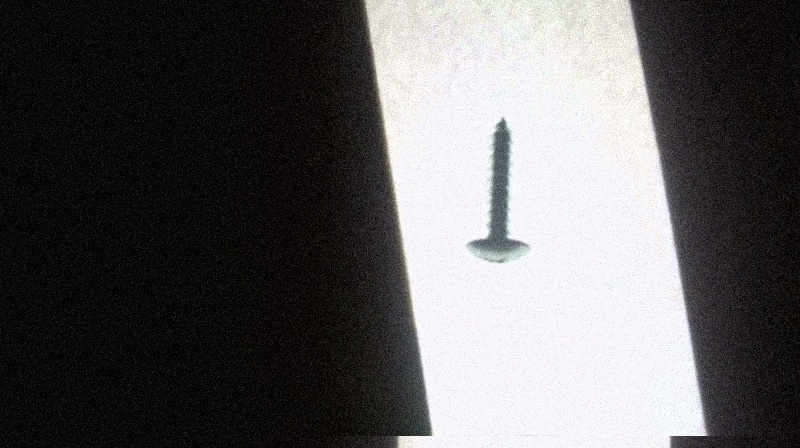S003: (461, 114, 534, 270)
